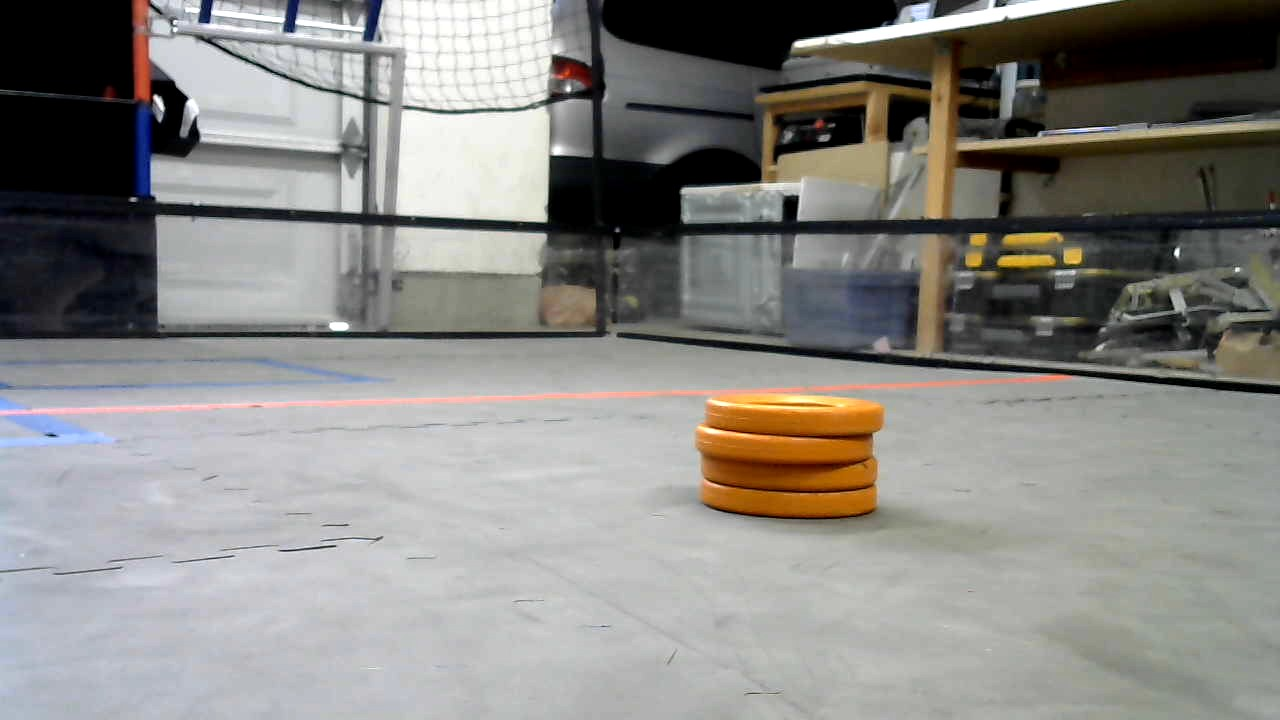FourStack: (695, 393, 887, 519)
